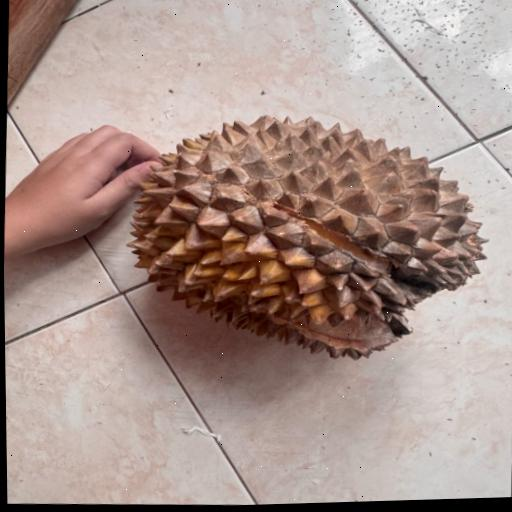rot: (48, 98, 502, 375)
